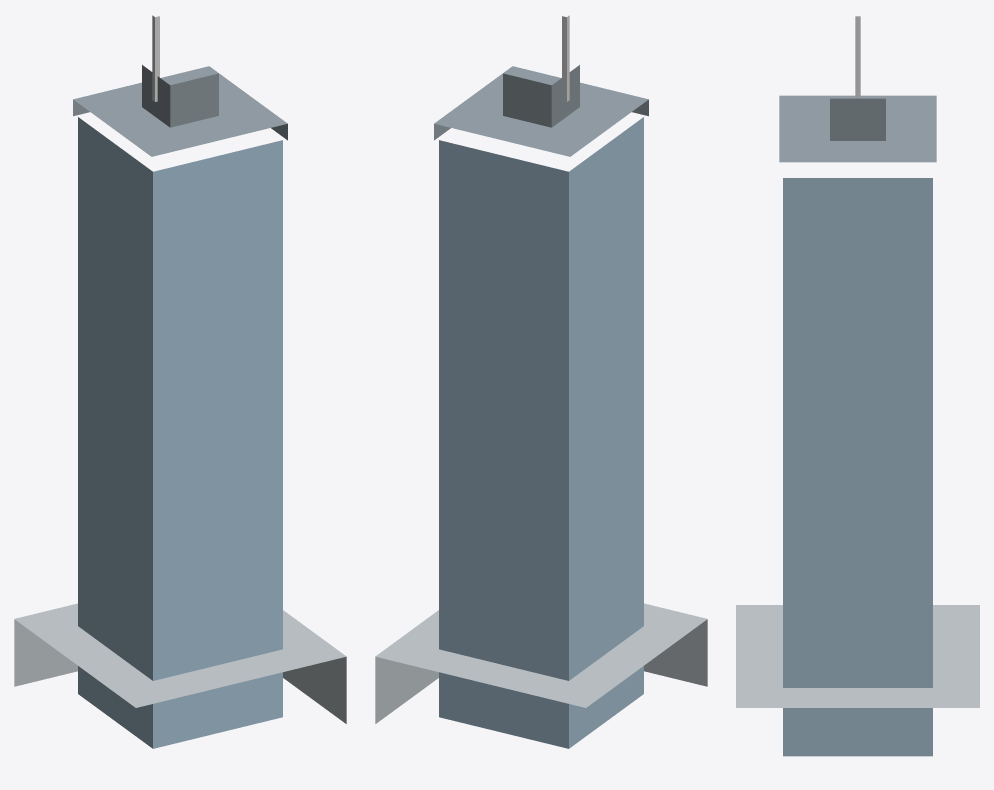
File: tower.glb
The picture shows the model from 3 angles, left to right: view 1: azimuth 30°, elevation 25°; view 2: azimuth 150°, elevation 25°; view 3: azimuth 270°, elevation 25°; orthographic projection.
Parts seen in each view (by area): view 1: n0, n1, n2, n3, n4; view 2: n0, n1, n2, n3, n4; view 3: n0, n1, n2, n3, n4.
Part boxes in pixels (box(x1,y1,x2,y2)): n0: box(78, 117, 282, 748); n1: box(14, 603, 346, 723); n2: box(73, 66, 287, 156); n3: box(142, 65, 218, 127); n4: box(152, 15, 159, 101); n0: box(439, 117, 643, 748); n1: box(375, 603, 707, 723); n2: box(434, 66, 648, 156); n3: box(503, 65, 579, 127); n4: box(562, 15, 569, 101); n0: box(783, 178, 932, 756); n1: box(736, 605, 979, 707); n2: box(779, 95, 936, 162); n3: box(830, 98, 885, 140); n4: box(855, 16, 860, 98).
Bounding box in the file's own units: 13 × 41 × 13.
